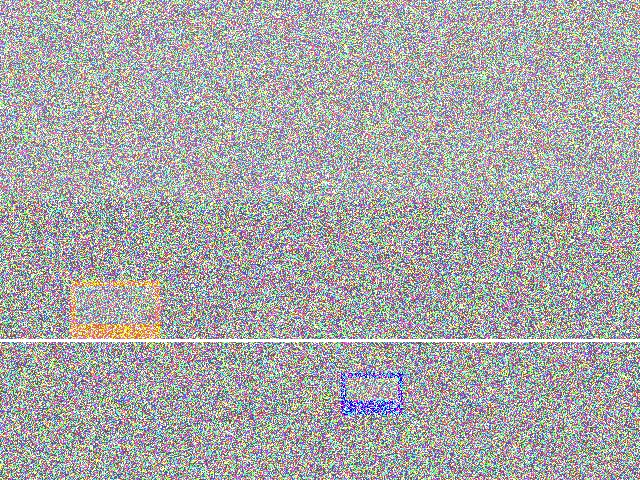bus: (347, 376, 518, 445), (28, 179, 120, 232)
car: (411, 136, 532, 237)
